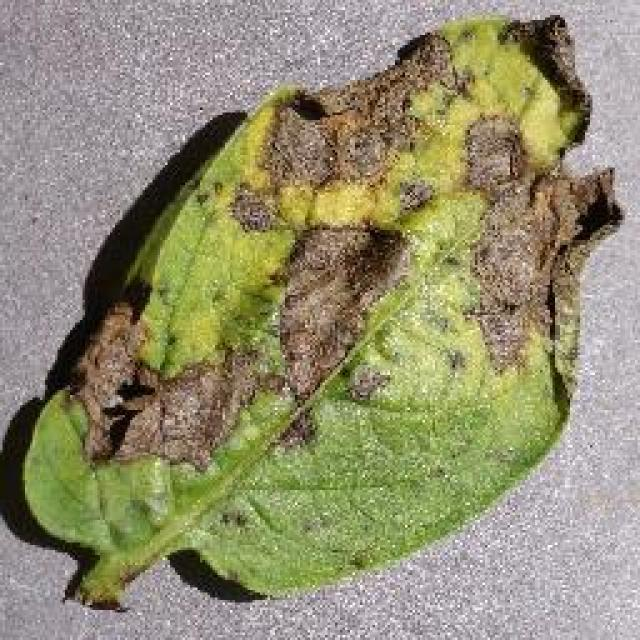Potato: (20, 10, 622, 610)
